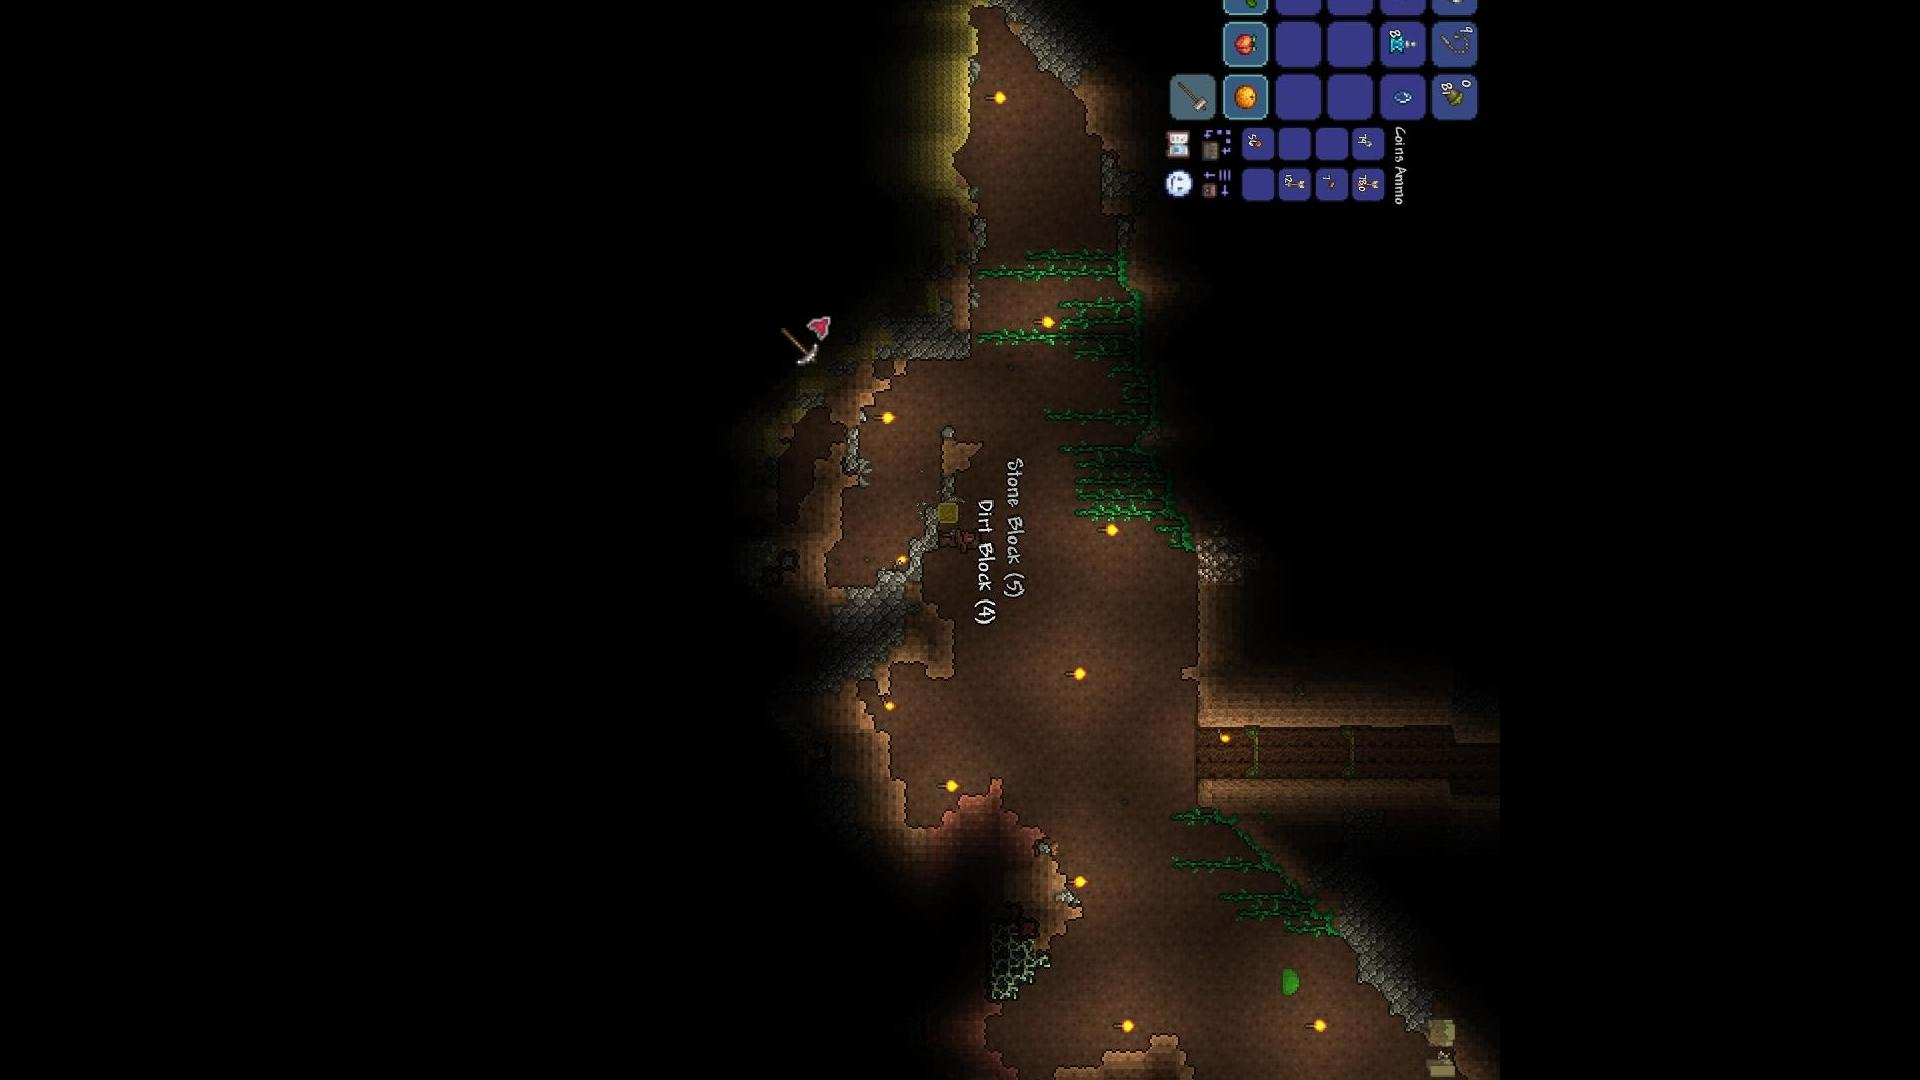pickaxe: (778, 326, 820, 372)
recallP: (1385, 33, 1420, 57)
slime: (1276, 965, 1304, 1000)
